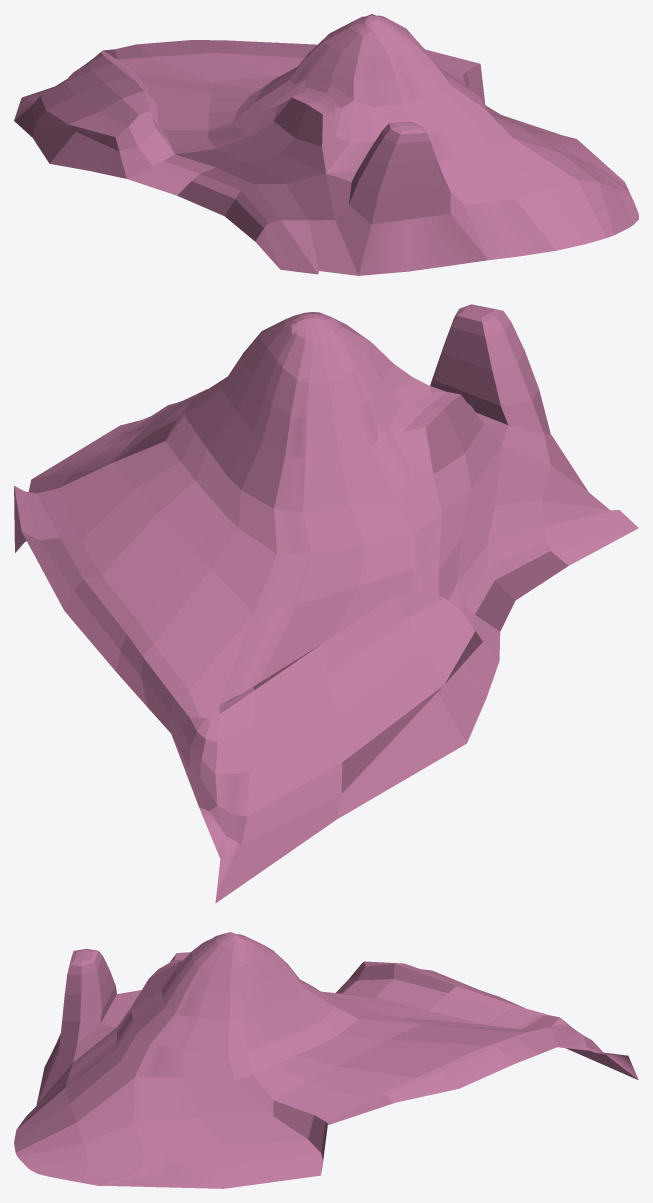
Rendered from terrain_W3A1.fbx.
3 views of the same model, one above another, from view 1: azimuth 30°, elevation 25°; view 2: azimuth 150°, elevation 25°; view 3: azimuth 270°, elevation 25° (orthographic). The views are drawn at different scales.
Parts seen in each view (by area): view 1: W3A1_mesh; view 2: W3A1_mesh; view 3: W3A1_mesh.
Part boxes in pixels (x1,y1,x2,y2): W3A1_mesh: (14, 14, 638, 275); W3A1_mesh: (14, 304, 638, 903); W3A1_mesh: (14, 932, 638, 1188).
Bounding box in the file's own units: 30578 × 15631 × 41357.
